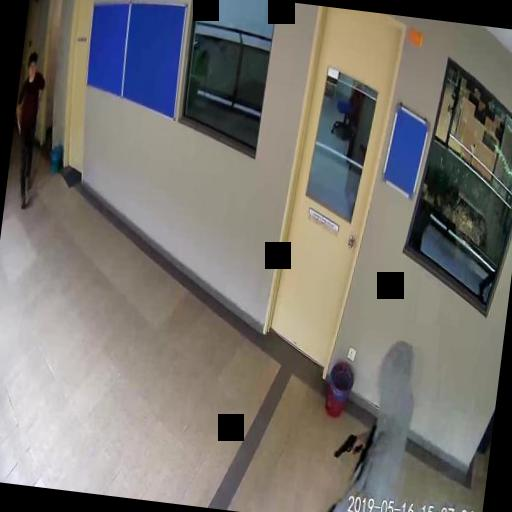Handgun: (333, 431, 363, 461)
